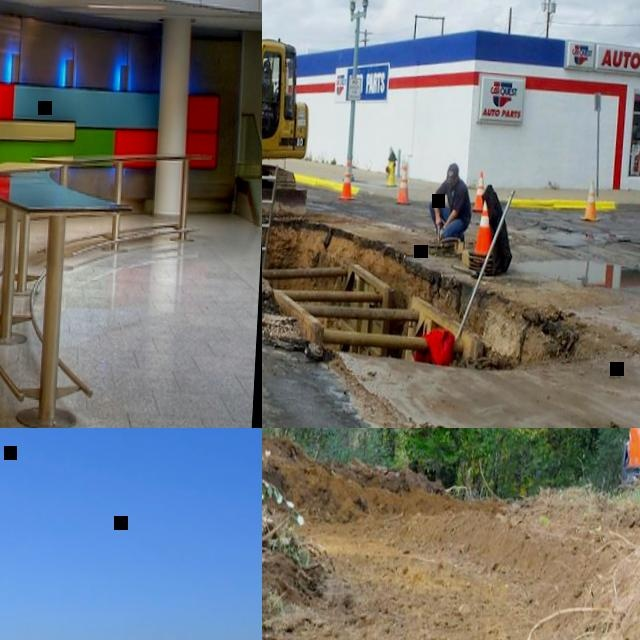NO-Hardhat: (447, 163, 459, 178)
NO-Safety Vest: (442, 184, 466, 222)
Person: (427, 160, 473, 245)
Safety Cone: (468, 201, 496, 274), (581, 182, 603, 224), (396, 163, 414, 208), (338, 162, 356, 203), (470, 173, 486, 215)
machinery: (262, 0, 318, 229)
